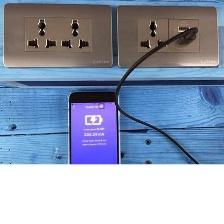phone: (63, 87, 123, 189)
three_eye_plug: (0, 0, 115, 69), (114, 3, 221, 71)
